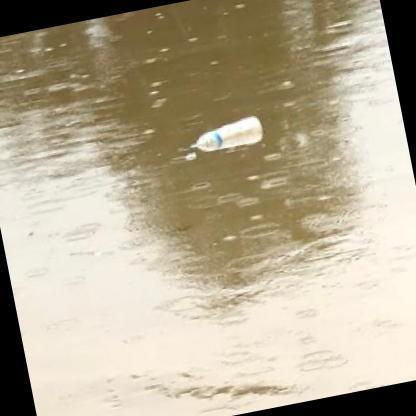plastic bottle: (189, 115, 264, 152)
